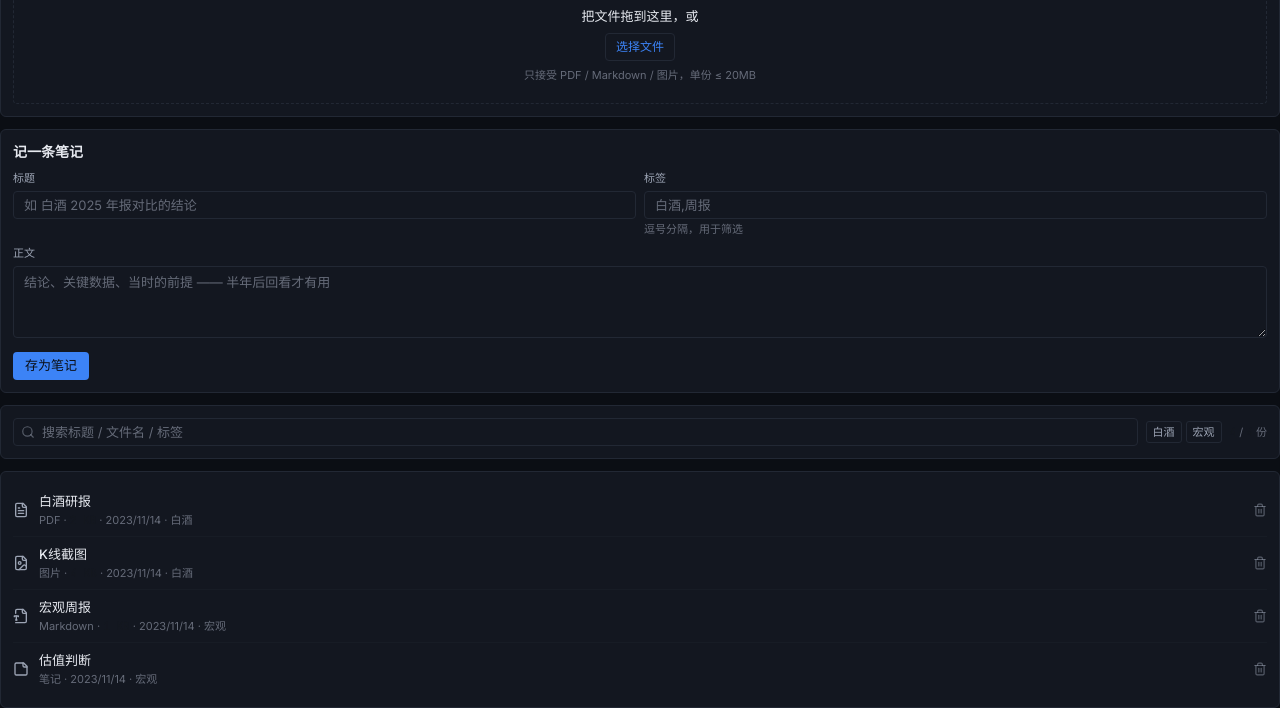
it: 预览按 kind 分派 › markdown → 拉 detail 并渲染正文
(page scrolled)
Expected: the number of elements with test id "doc-row" is 4, [13,484,1267,536]; [13,536,1267,589]; [13,589,1267,642]; [13,642,1267,695]
Click the text "宏观周报". click: x=65, y=607
box: [39,599,91,615]
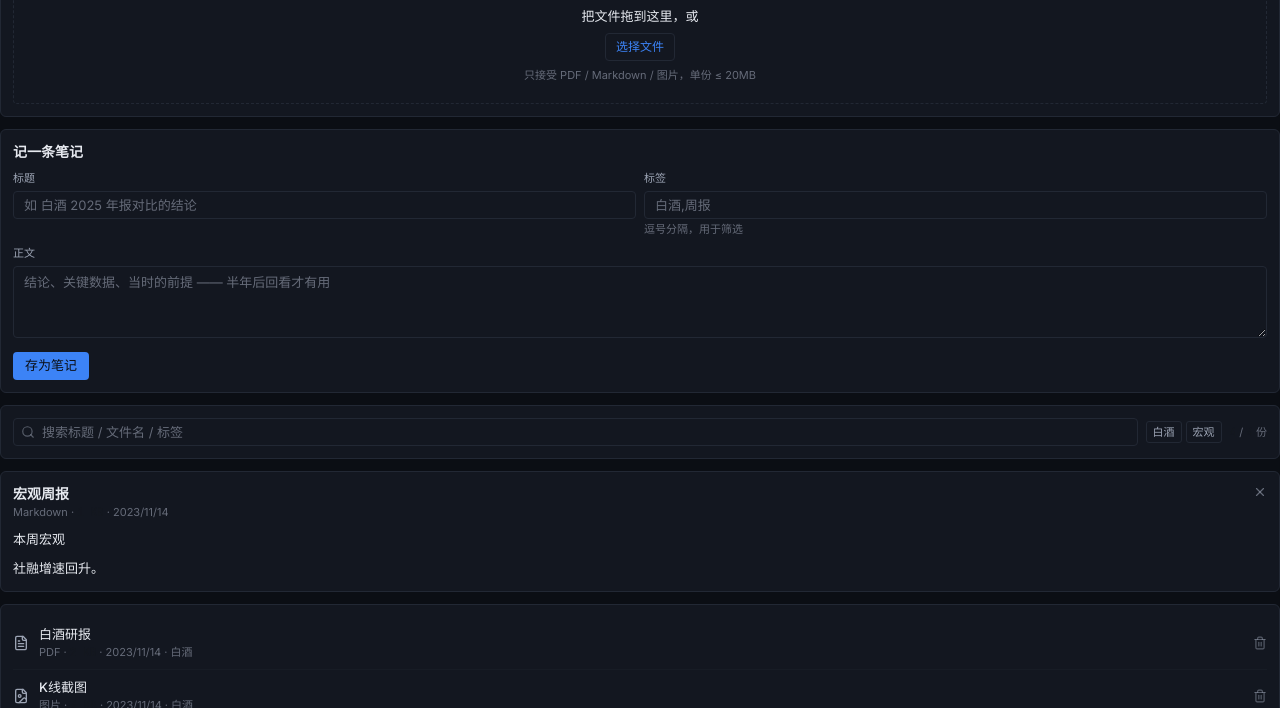
Expected: the text "社融增速回升。" is shown, [13,560,104,576]
